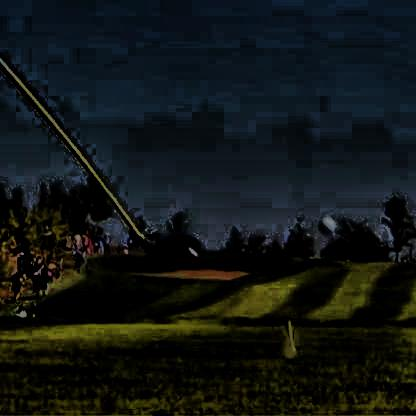golfball: (315, 212, 333, 233)
